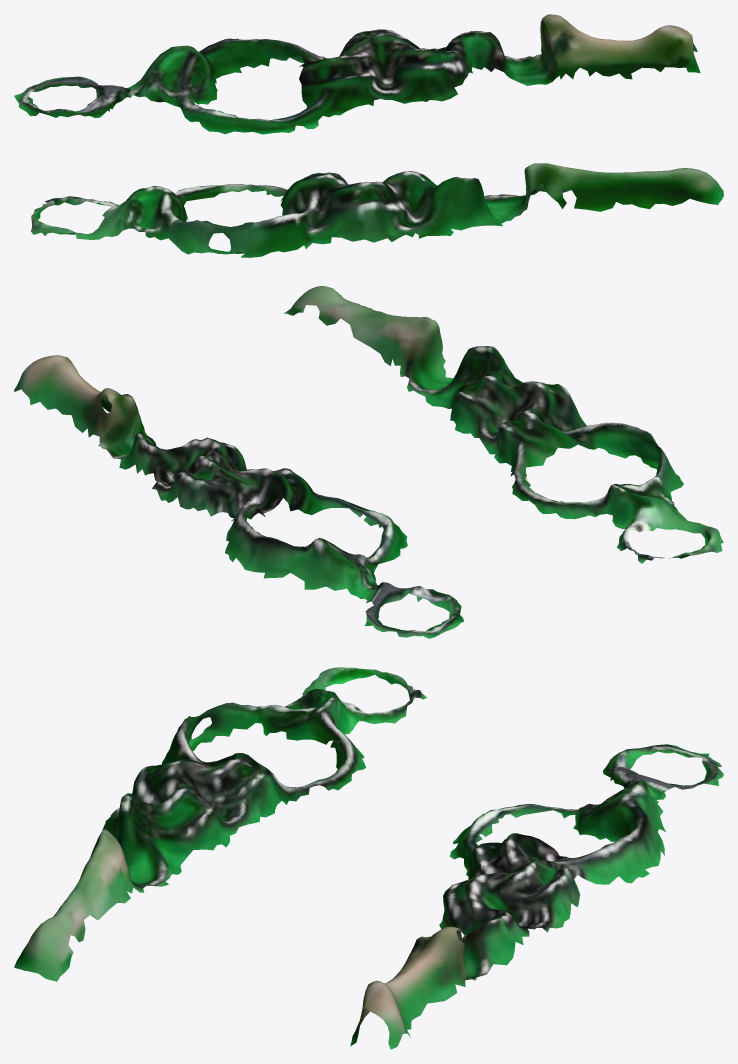
Rendered from boneearrings.glb.
The picture shows the model from 3 angles, top to bottom: view 1: azimuth 30°, elevation 25°; view 2: azimuth 150°, elevation 25°; view 3: azimuth 270°, elevation 25°; orthographic projection. The views are drawn at different scales.
Visible parts, largest first — view 1: Object; view 2: Object; view 3: Object.
Part boxes in pixels (<box>): Object: <box>14,14,723,257</box>; Object: <box>14,286,723,638</box>; Object: <box>14,667,723,1049</box>.
Size of the model in its own units: 0.1047 by 0.00899 by 0.0816.
1 material, 1 textured.
